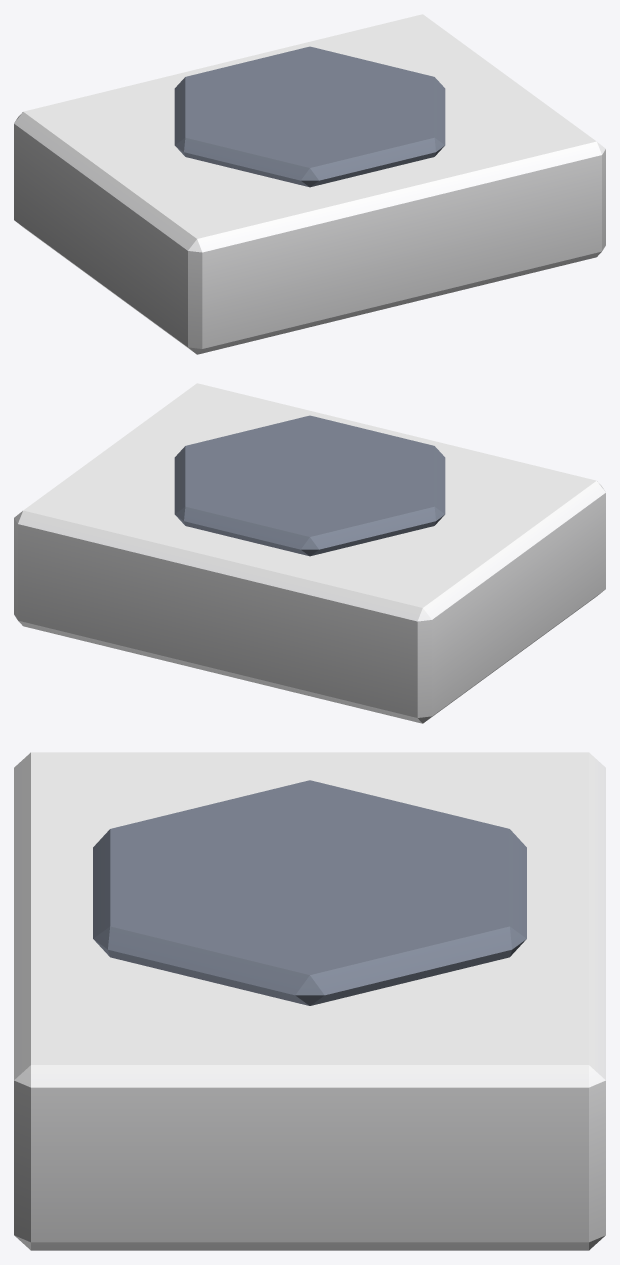
Rendered from hot_plate.glb.
The picture shows the model from 3 angles, top to bottom: view 1: azimuth 30°, elevation 25°; view 2: azimuth 150°, elevation 25°; view 3: azimuth 270°, elevation 25°; orthographic projection. The views are drawn at different scales.
Visible parts, largest first — view 1: hot_plate; view 2: hot_plate; view 3: hot_plate.
Part boxes in pixels (x1,y1,x2,y2): hot_plate: (14, 14, 605, 354); hot_plate: (14, 383, 605, 723); hot_plate: (14, 752, 605, 1250).
Bounding box in the file's own units: 0.34 × 0.105 × 0.26.
1 material, 1 textured.
